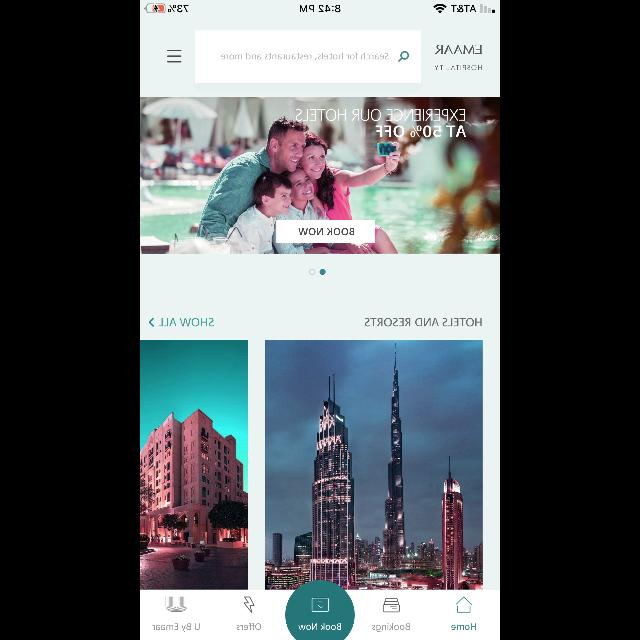icon: (455, 597, 471, 613), (312, 598, 328, 612), (167, 51, 181, 63), (398, 52, 408, 62), (148, 318, 154, 326)
image: (140, 98, 500, 254), (266, 340, 482, 590), (140, 340, 248, 590), (166, 596, 188, 612), (382, 598, 400, 612), (243, 596, 254, 614)
input: (195, 31, 421, 83)
pageindicator: (308, 269, 326, 275)
text: (296, 109, 467, 137), (220, 53, 388, 61), (364, 318, 482, 326), (435, 44, 481, 54), (158, 319, 214, 327), (372, 622, 410, 632), (153, 623, 200, 631), (298, 624, 342, 630), (434, 66, 482, 70), (237, 622, 261, 630), (451, 624, 475, 630)
textbutton: (277, 220, 375, 243)
uppertaskbar: (140, 0, 500, 14)
